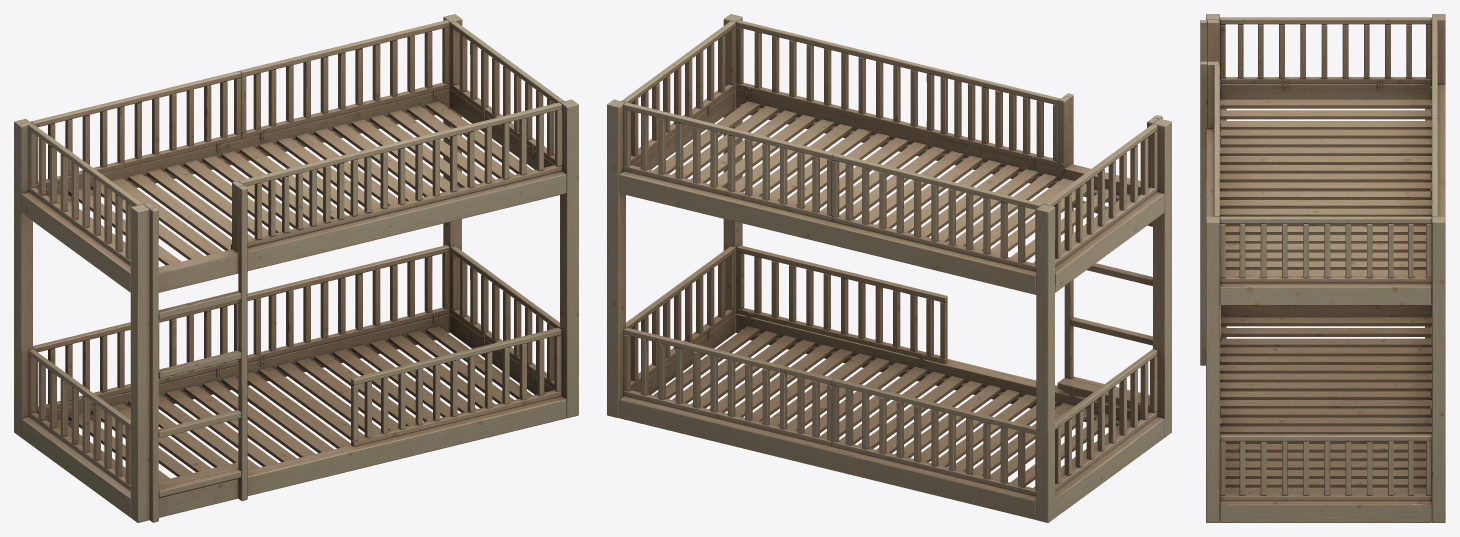
3 renders of one model, left to right at view 1: azimuth 30°, elevation 25°; view 2: azimuth 150°, elevation 25°; view 3: azimuth 270°, elevation 25°, orthographic. The views are drawn at different scales.
Parts seen in each view (by area): view 1: 200x90; view 2: 200x90; view 3: 200x90.
Boxes of the visible parts, box(x1,y1,x2,y2) form: 200x90: box(14, 14, 578, 522); 200x90: box(607, 14, 1171, 522); 200x90: box(1200, 14, 1445, 522).
Bounding box in the file's own units: 2.14 × 1.45 × 1.06.
Materials: 1 (1 with a texture image).
